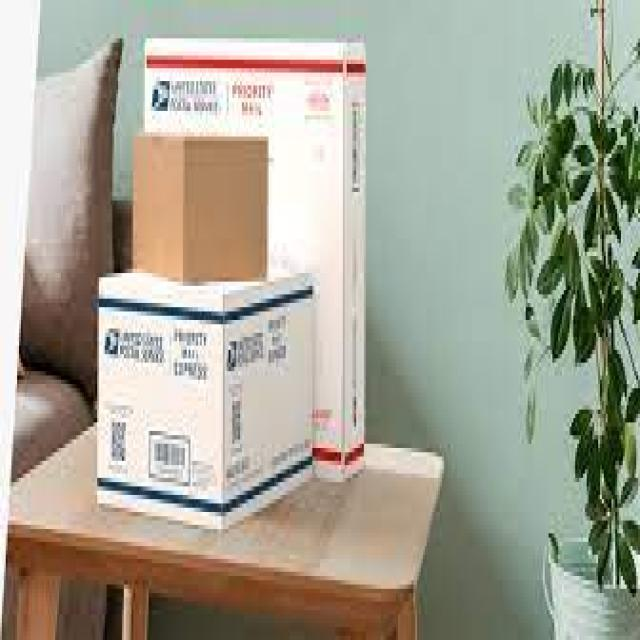box: (143, 36, 366, 480), (95, 270, 317, 532), (132, 132, 271, 287)
